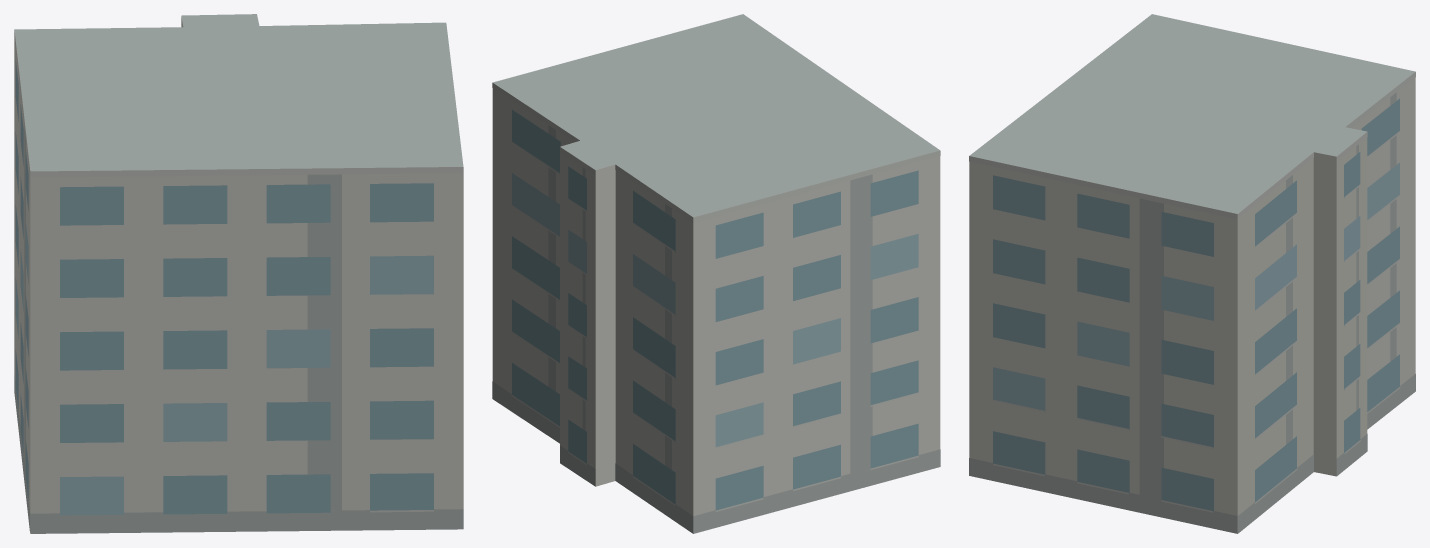
Rendered from survey-upis-32887760.glb.
The picture shows the model from 3 angles, left to right: view 1: azimuth 30°, elevation 25°; view 2: azimuth 150°, elevation 25°; view 3: azimuth 270°, elevation 25°; orthographic projection. The views are drawn at different scales.
Visible parts, largest first — view 1: survey-upis-32887760.tmp; view 2: survey-upis-32887760.tmp; view 3: survey-upis-32887760.tmp.
Boxes of the visible parts, x1,y1,x2,y2 form: survey-upis-32887760.tmp: (14,14,463,533); survey-upis-32887760.tmp: (492,14,940,533); survey-upis-32887760.tmp: (969,14,1415,533).
Size of the model in its own units: 18.86 by 14.05 by 17.79.
